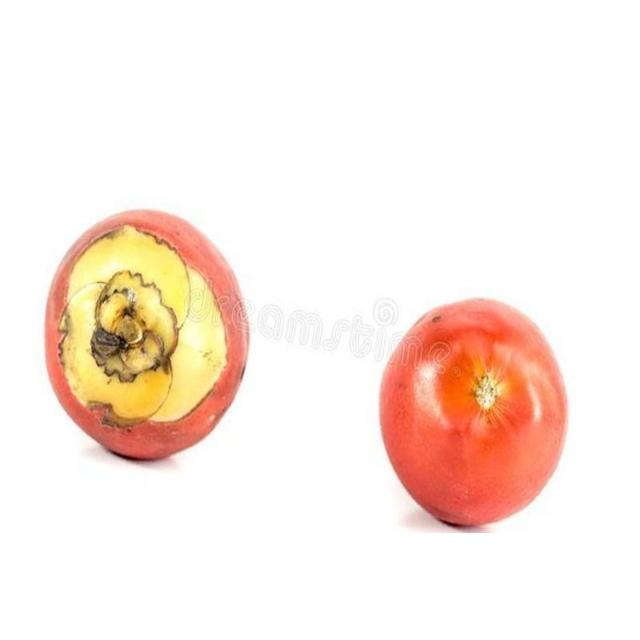good: (44, 209, 252, 463), (378, 298, 570, 529)
